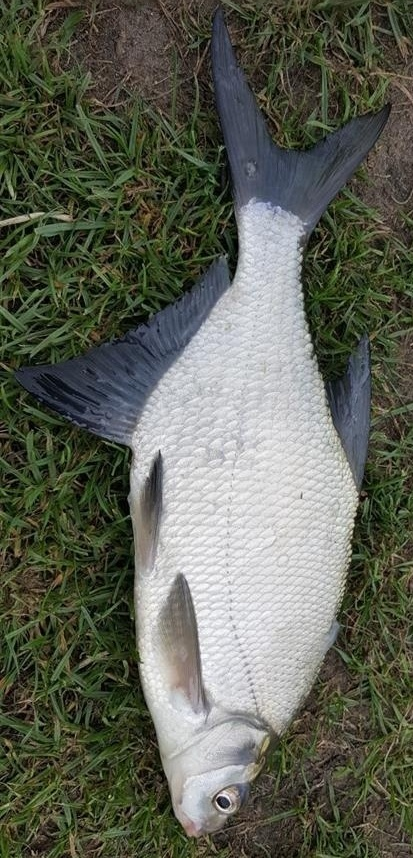Abramis brama: (14, 20, 393, 838)
